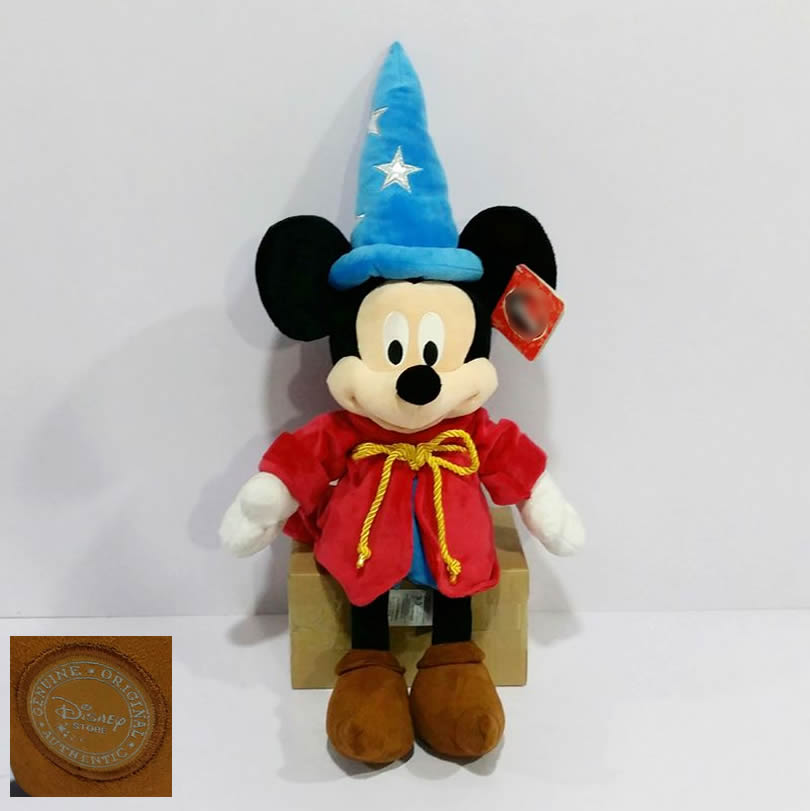Mickey: (254, 198, 561, 437)
